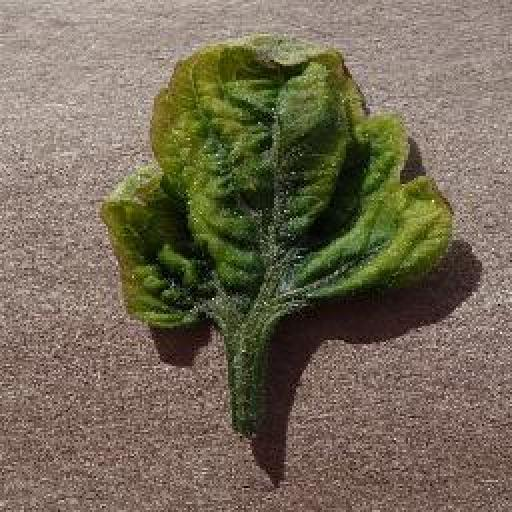Yellow Leaf Curl Virus: (98, 31, 454, 332)
